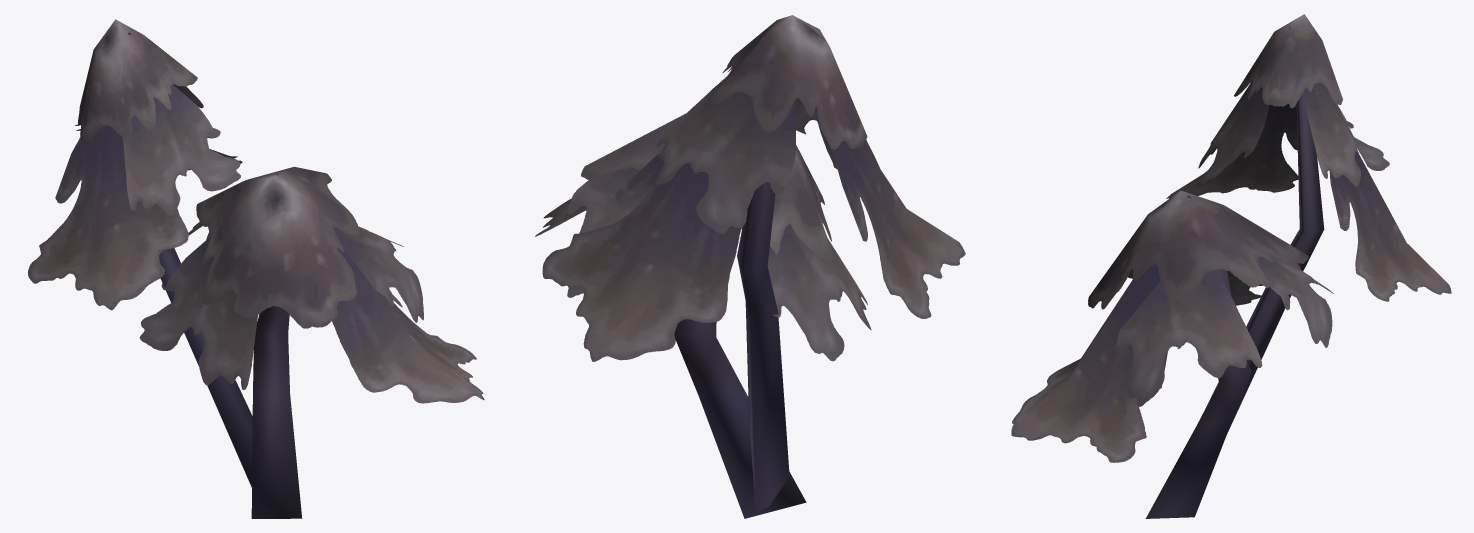
3 views of the same model, side by side, from view 1: azimuth 30°, elevation 25°; view 2: azimuth 150°, elevation 25°; view 3: azimuth 270°, elevation 25° (orthographic). The views are drawn at different scales.
Size of the model in its own units: 2.51 by 2.97 by 2.69.
1 material, 1 textured.
